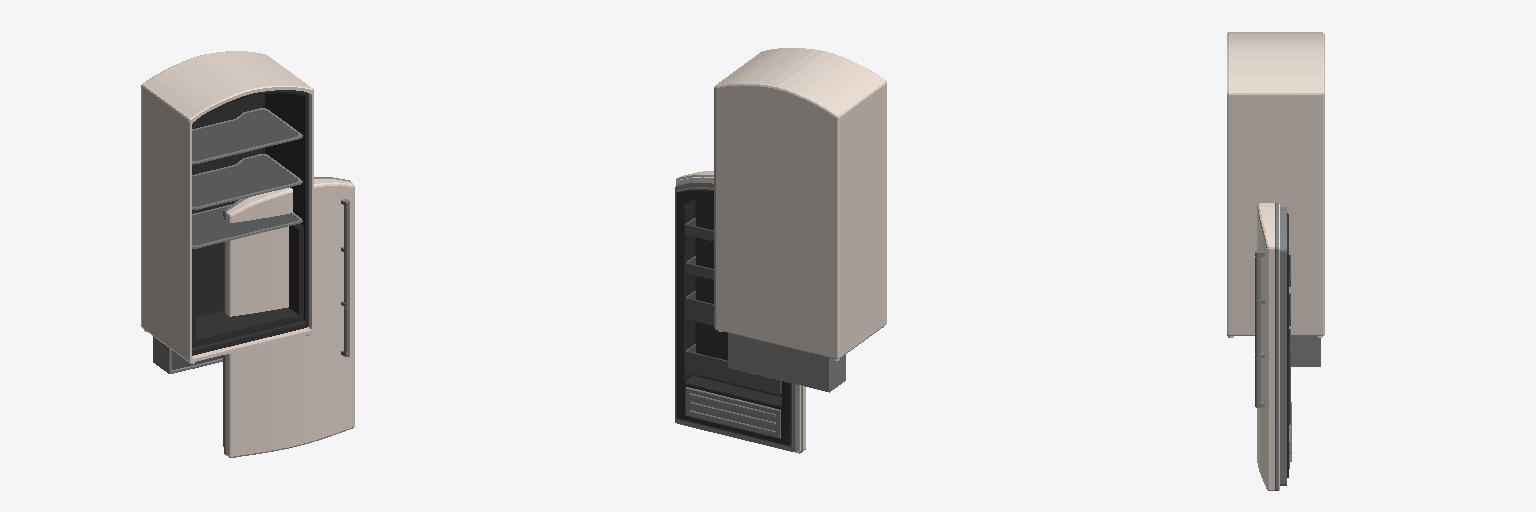
3 renders of one model, left to right at view 1: azimuth 30°, elevation 25°; view 2: azimuth 150°, elevation 25°; view 3: azimuth 270°, elevation 25°, orthographic.
Parts seen in each view (by area): view 1: FridgeBodyMesh_0, Mesh_1; view 2: FridgeBodyMesh_0, Mesh_1, fridge_drawer2_25_3; view 3: FridgeBodyMesh_0, Mesh_1, fridge_drawer1_25_2.
Boxes of the visible parts, x1,y1,x2,y2 form: FridgeBodyMesh_0: [141, 51, 313, 363]; Mesh_1: [223, 177, 354, 457]; FridgeBodyMesh_0: [714, 48, 886, 360]; Mesh_1: [675, 171, 805, 453]; fridge_drawer2_25_3: [728, 333, 845, 391]; FridgeBodyMesh_0: [1227, 32, 1324, 337]; Mesh_1: [1255, 203, 1291, 490]; fridge_drawer1_25_2: [1291, 336, 1320, 366].
Size of the model in its own units: 1.57 by 3.11 by 0.78.
7 materials, 2 textured.